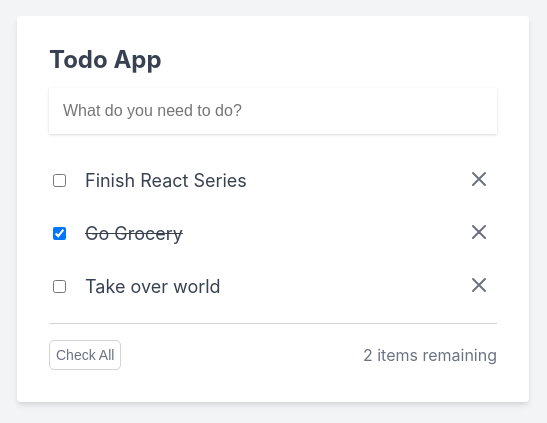
Test: shows the number of remaining todos
The width and height of the screenshot is (547, 423).
Expected: the text "2 items remaining" is shown, [363, 347, 497, 363]
Click the checkbox next to "Finish React Series".
click(60, 180)  # box [53, 174, 66, 187]
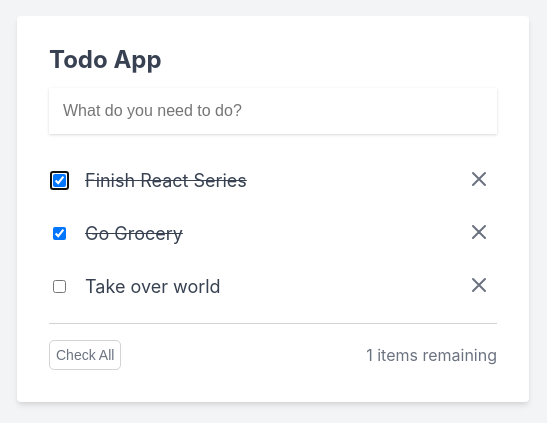
Now the text "1 items remaining" is shown, box [366, 347, 497, 363]
